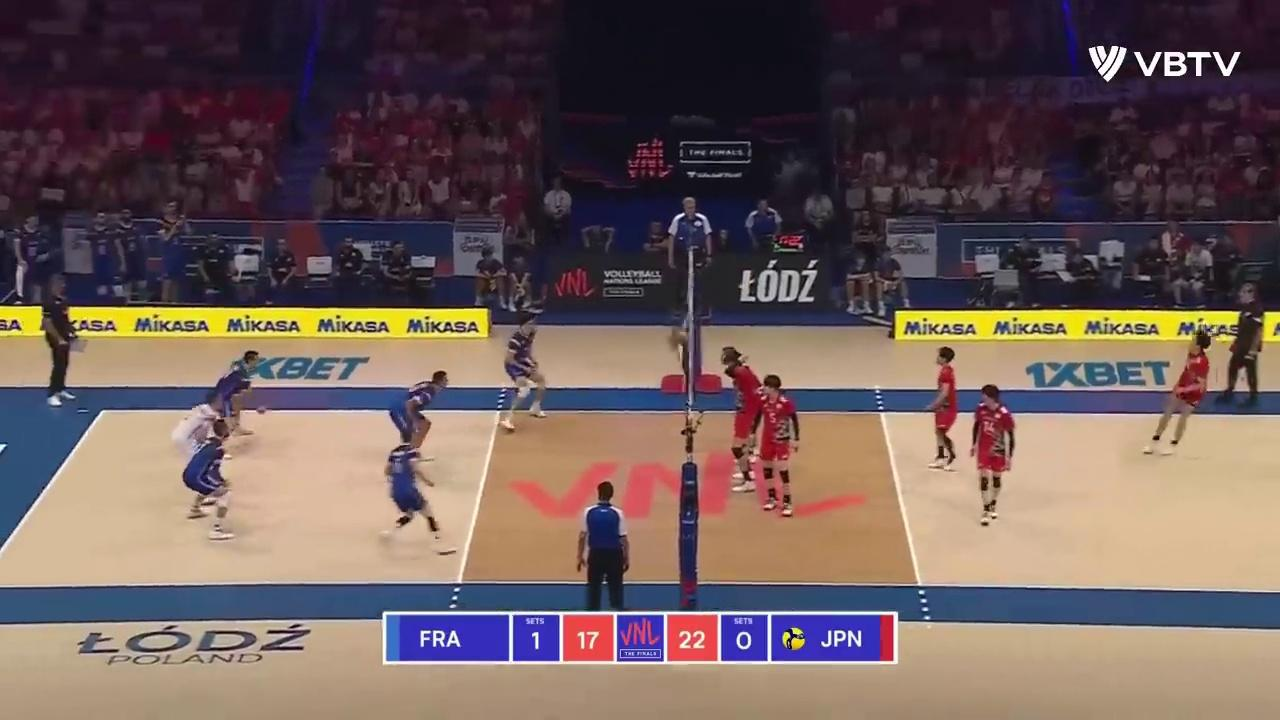ball: (668, 326, 686, 346)
